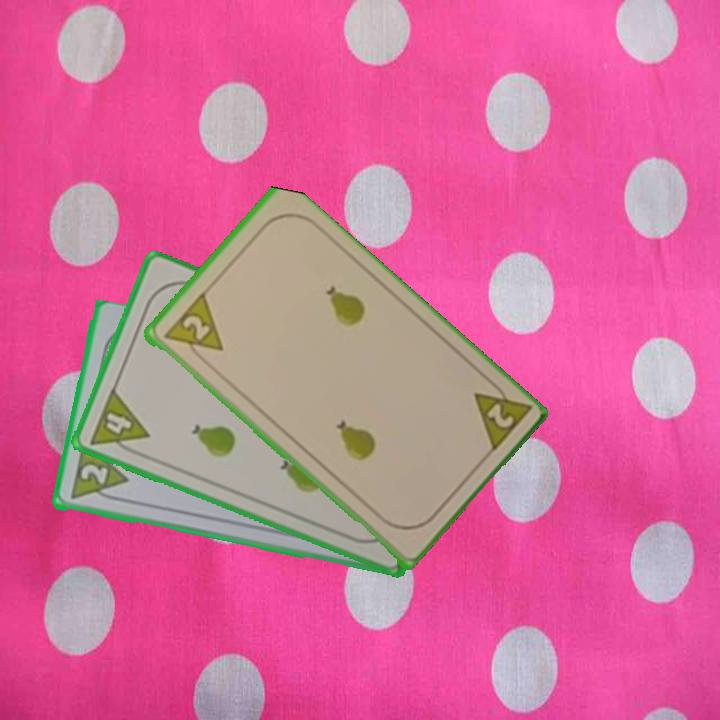2p: (468, 373, 533, 457), (159, 291, 226, 367), (66, 439, 131, 506)
4p: (85, 385, 152, 460)
